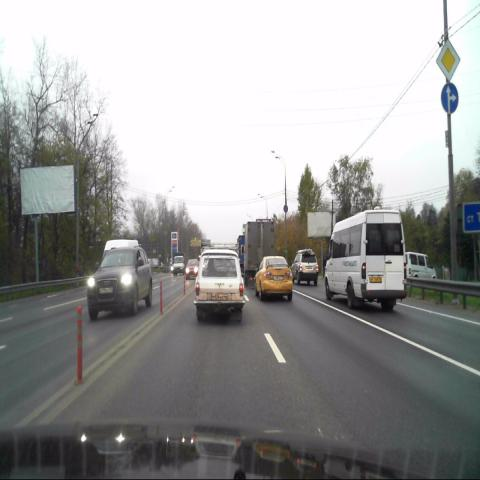4_1_4: (440, 84, 458, 114)
